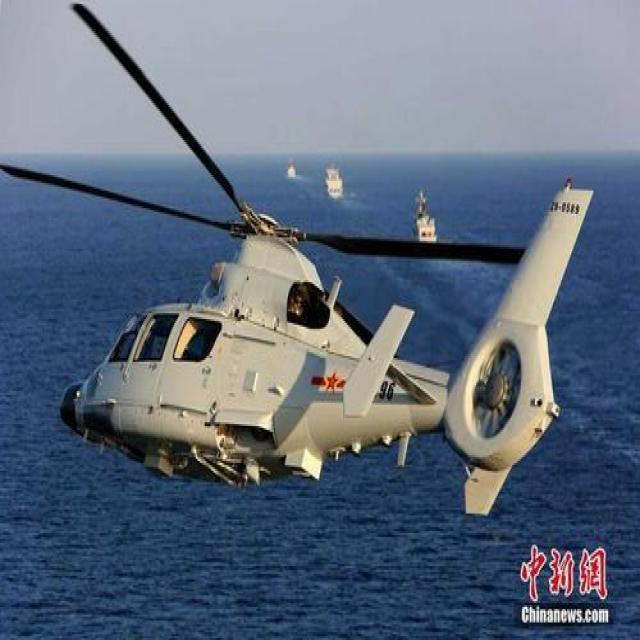MIL_HELO: (0, 12, 593, 526)
